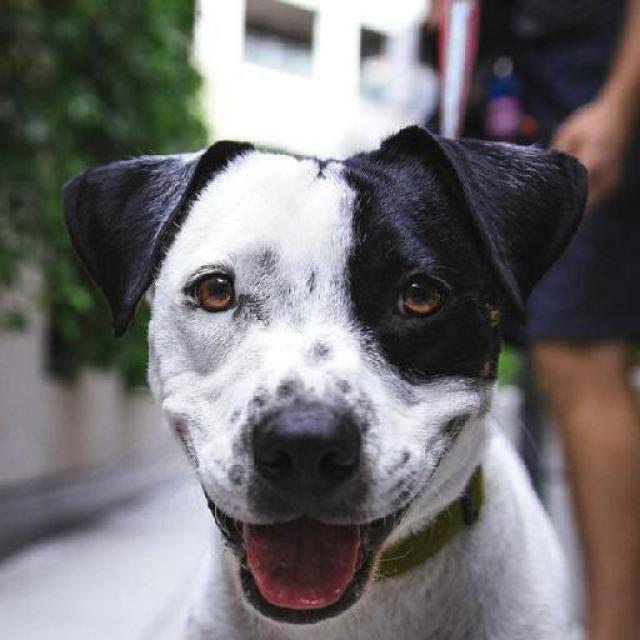adult_dog: (61, 125, 588, 640)
